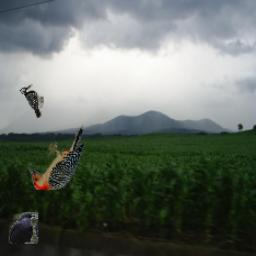Crow: (10, 212, 39, 244)
Woodpecker: (28, 125, 86, 190), (20, 84, 45, 118)
